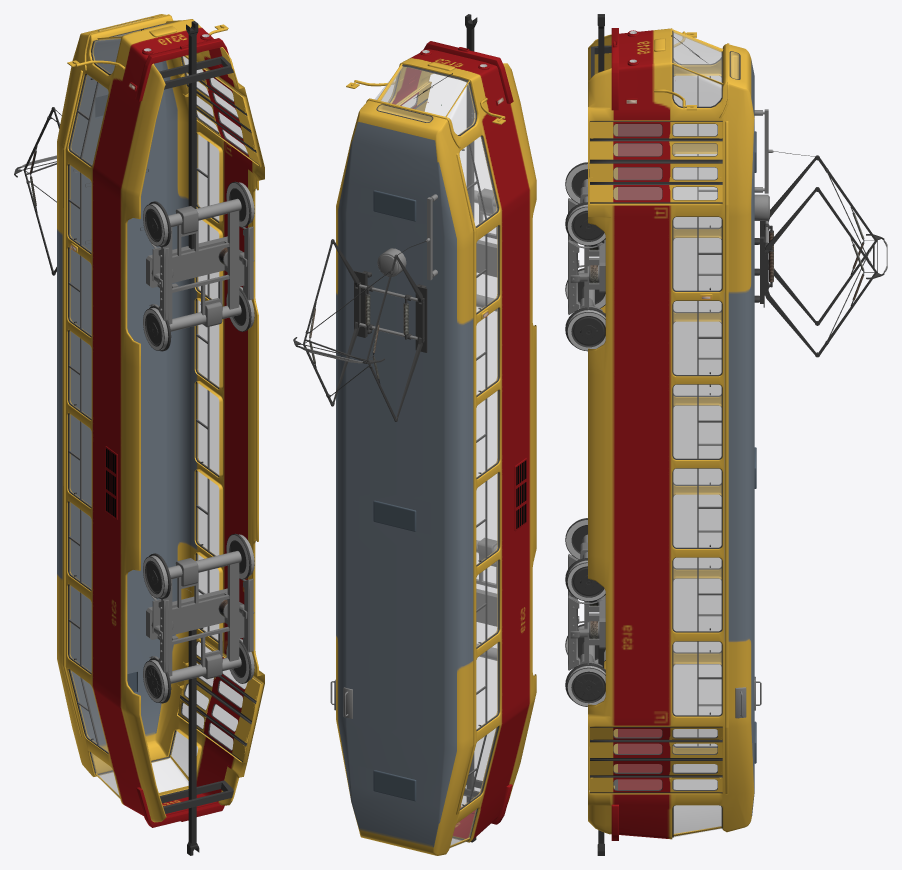
Rendered from Tram.glb.
3 views of the same model, side by side, from view 1: azimuth 30°, elevation 25°; view 2: azimuth 150°, elevation 25°; view 3: azimuth 270°, elevation 25° (orthographic).
Parts seen in each view (by area): view 1: body, windows, cart_2, cart_1, wheel_pair_1, wheel_pair_3, wheel_pair_2, wheel_pair_4, reardoor_part2, reardoor_part1, reardoor_part3, pantograph (+5 smaller); view 2: body, windows, pantograph, cart_1, cart_2; view 3: body, windows, pantograph, frontdoor_part_2, frontdoor_part_3, frontdoor_part_1, cart_1, reardoor_part3, cart_2, frontdoor_part_4, reardoor_part2, reardoor_part1 (+5 smaller).
Part boxes in pixels (box(x1,y1,x2,y2)): body: box(57, 14, 264, 827); windows: box(68, 20, 219, 798); cart_2: box(146, 558, 254, 855); cart_1: box(146, 21, 254, 327); wheel_pair_1: box(143, 181, 254, 246); wheel_pair_3: box(143, 533, 254, 599); wheel_pair_2: box(143, 286, 254, 351); wheel_pair_4: box(143, 638, 254, 703); reardoor_part2: box(177, 679, 251, 744); reardoor_part1: box(178, 697, 246, 761); reardoor_part3: box(183, 659, 256, 722); pantograph: box(14, 107, 148, 275); body: box(330, 41, 536, 855); windows: box(375, 63, 499, 847); pantograph: box(293, 239, 427, 421); cart_1: box(465, 14, 497, 293); cart_2: box(466, 538, 497, 842); body: box(588, 28, 773, 840); windows: box(672, 29, 723, 837); pantograph: box(754, 151, 887, 357); frontdoor_part_2: box(590, 161, 722, 183); frontdoor_part_3: box(590, 139, 722, 161); frontdoor_part_1: box(590, 183, 722, 203); cart_1: box(568, 14, 605, 314); reardoor_part3: box(590, 740, 722, 759); cart_2: box(568, 542, 605, 855); frontdoor_part_4: box(590, 121, 722, 139); reardoor_part2: box(590, 759, 722, 776); reardoor_part1: box(590, 776, 722, 793).
Bounding box in the file's own units: 5.95 × 30.19 × 10.51.
61 materials, 7 textured.
